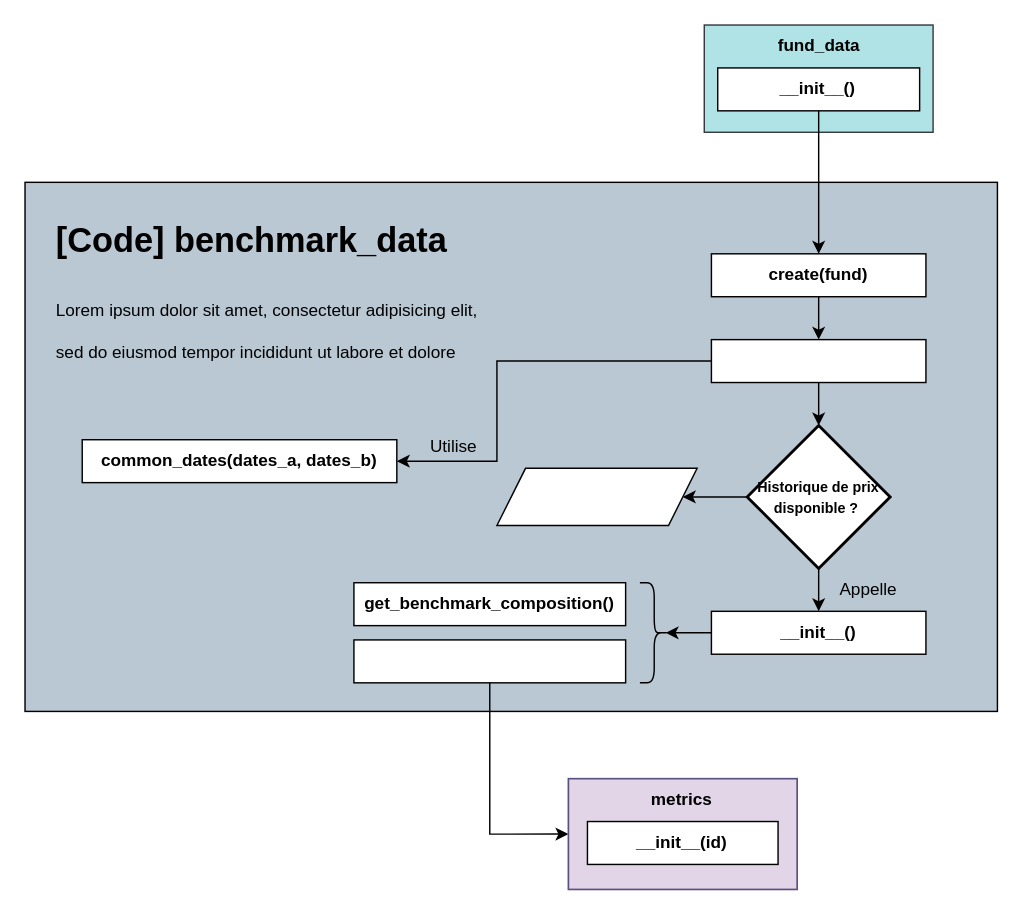
Some shapes in this 1022 by 915 pixel diagram are drawn without their labels. Each missing label, with the centre of its shape:
get_benchamark_price(): (x=818, y=360)
Renvoie None: (x=596, y=496)
update_metrics(): (x=489, y=660)
